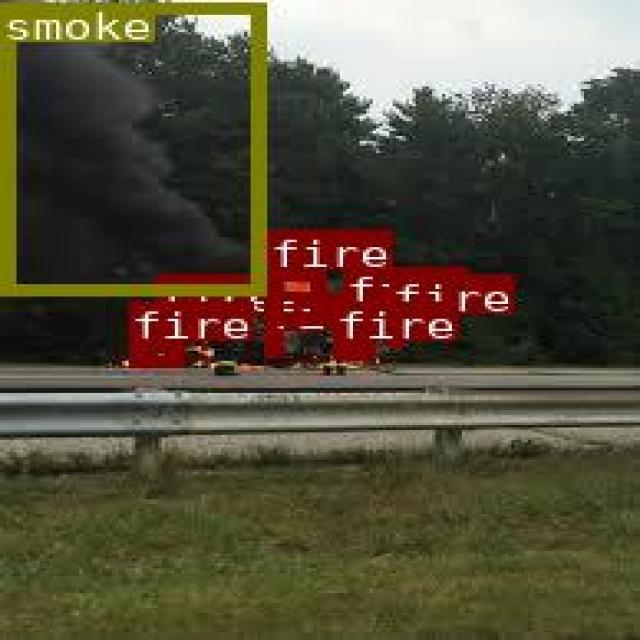fire: (266, 269, 323, 323), (128, 341, 181, 365), (154, 312, 194, 335), (331, 340, 373, 358), (341, 306, 374, 328), (387, 313, 402, 346), (261, 330, 277, 355)
smoke: (0, 1, 264, 293)
